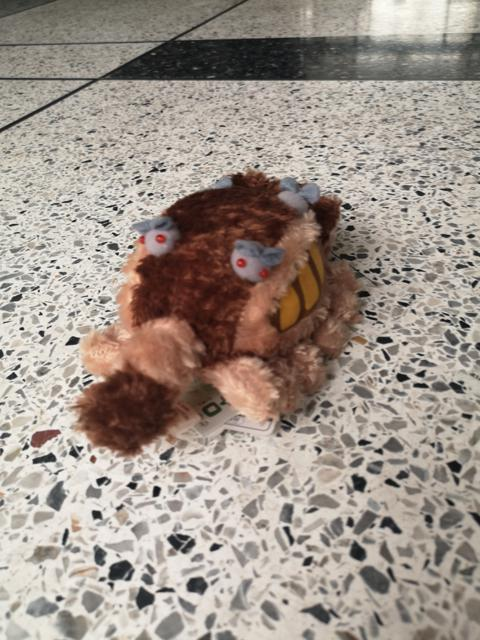nekobus: (67, 165, 371, 462)
